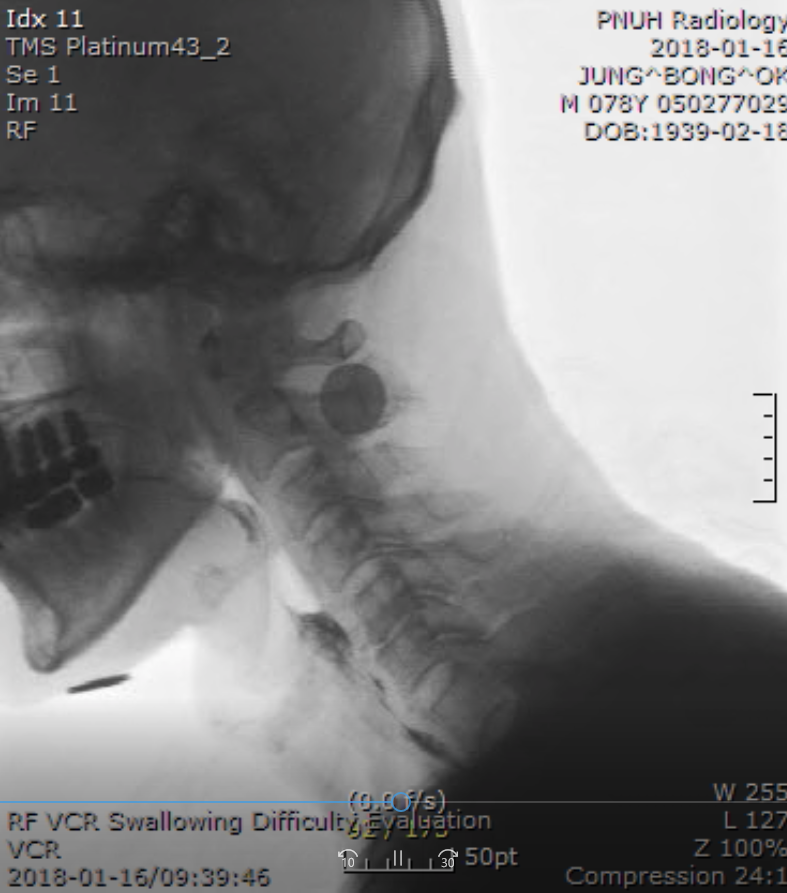dros: (269, 567, 327, 620)
food: (277, 598, 354, 677)
uros: (216, 497, 270, 550)
